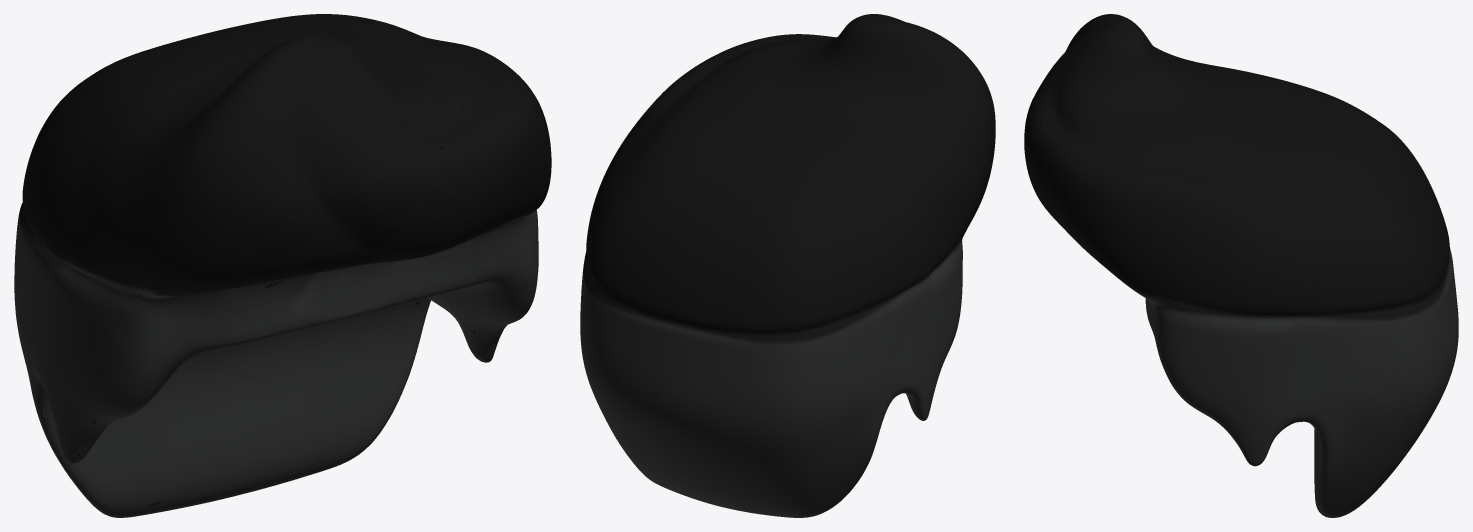
The model's file is Male_Hair_1_1.glb.
3 views of the same model, side by side, from view 1: azimuth 30°, elevation 25°; view 2: azimuth 150°, elevation 25°; view 3: azimuth 270°, elevation 25° (orthographic). The views are drawn at different scales.
Parts seen in each view (by area): view 1: Plane.006; view 2: Plane.006; view 3: Plane.006.
Boxes of the visible parts, x1,y1,x2,y2 form: Plane.006: (14, 14, 551, 517); Plane.006: (580, 14, 995, 517); Plane.006: (1024, 14, 1458, 517).
Bounding box in the file's own units: 36.22 × 45.16 × 40.86.
Materials: 1 (1 with a texture image).
